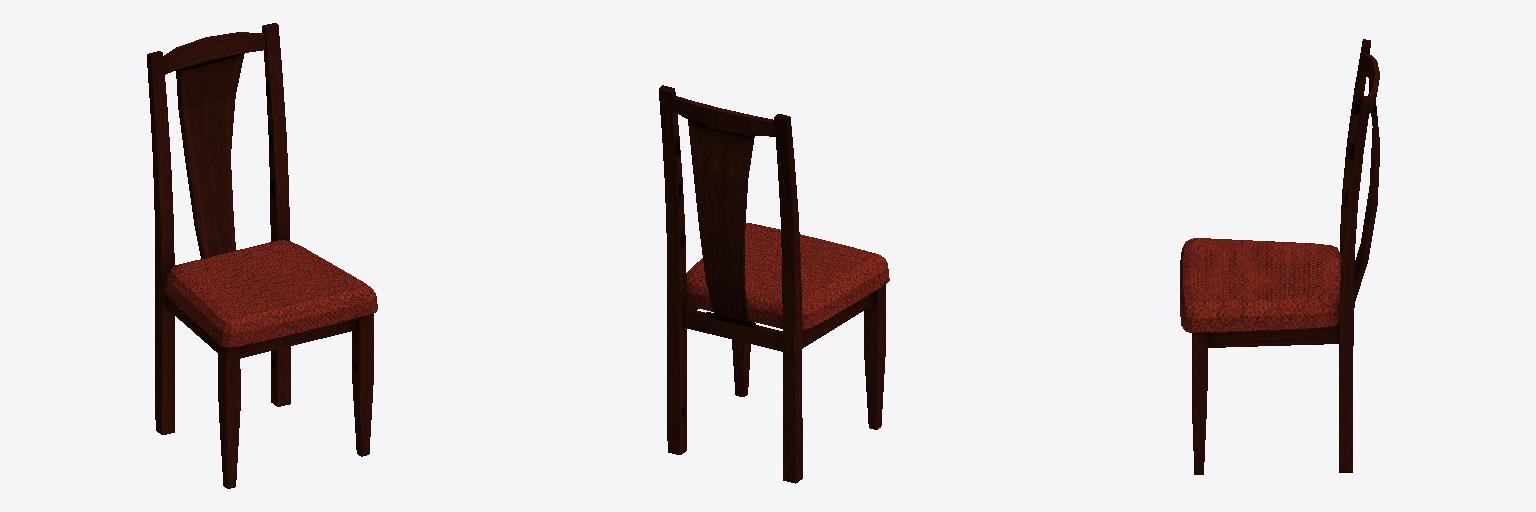
3 renders of one model, left to right at view 1: azimuth 30°, elevation 25°; view 2: azimuth 150°, elevation 25°; view 3: azimuth 270°, elevation 25°, orthographic.
Visible parts, largest first — view 1: 10214_Armless_Dinner_Chair_v1, Object001; view 2: 10214_Armless_Dinner_Chair_v1, Object001; view 3: 10214_Armless_Dinner_Chair_v1, Object001.
Boxes of the visible parts, box(x1,y1,x2,y2) form: 10214_Armless_Dinner_Chair_v1: box(147, 23, 377, 488); Object001: box(176, 53, 244, 258); 10214_Armless_Dinner_Chair_v1: box(659, 85, 889, 483); Object001: box(688, 119, 755, 327); 10214_Armless_Dinner_Chair_v1: box(1180, 39, 1379, 474); Object001: box(1354, 83, 1379, 307).
Size of the model in its own units: 6.18 by 14.05 by 6.89.
Materials: 1 (1 with a texture image).